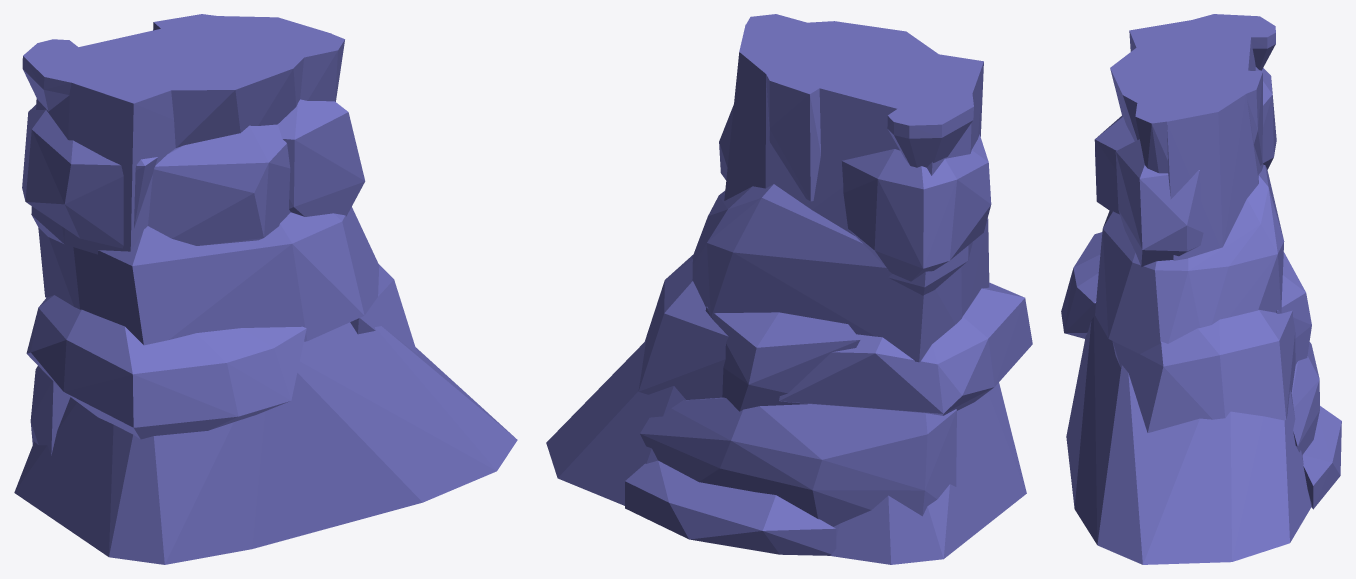
The model's file is Cliff_Plateau_03_Slope_Collider_01.FBX.
3 views of the same model, side by side, from view 1: azimuth 30°, elevation 25°; view 2: azimuth 150°, elevation 25°; view 3: azimuth 270°, elevation 25° (orthographic). The views are drawn at different scales.
Visible parts, largest first — view 1: COLLIDER2, COLLIDER11, COLLIDER1, COLLIDER3, COLLIDER9, COLLIDER4, COLLIDER5, COLLIDER10, COLLIDER6, COLLIDER8, COLLIDER15, COLLIDER14; view 2: COLLIDER14, COLLIDER3, COLLIDER11, COLLIDER2, COLLIDER1, COLLIDER4, COLLIDER12, COLLIDER13, COLLIDER15, COLLIDER7, COLLIDER8, COLLIDER5 (+1 smaller); view 3: COLLIDER2, COLLIDER3, COLLIDER11, COLLIDER15, COLLIDER10, COLLIDER1, COLLIDER12, COLLIDER5, COLLIDER14, COLLIDER9, COLLIDER6, COLLIDER13 (+3 smaller).
Part boxes in pixels (<box>): COLLIDER2: <box>14,322,517,564</box>; COLLIDER11: <box>38,207,379,345</box>; COLLIDER1: <box>26,295,306,439</box>; COLLIDER3: <box>31,16,331,254</box>; COLLIDER9: <box>148,124,290,245</box>; COLLIDER4: <box>22,104,157,248</box>; COLLIDER5: <box>169,48,304,147</box>; COLLIDER10: <box>278,99,365,216</box>; COLLIDER6: <box>287,33,344,101</box>; COLLIDER8: <box>22,39,77,111</box>; COLLIDER15: <box>350,264,417,353</box>; COLLIDER14: <box>30,366,70,455</box>; COLLIDER14: <box>640,397,956,526</box>; COLLIDER3: <box>724,24,983,295</box>; COLLIDER11: <box>692,184,989,362</box>; COLLIDER2: <box>546,341,1026,564</box>; COLLIDER1: <box>779,282,1032,415</box>; COLLIDER4: <box>842,134,991,281</box>; COLLIDER12: <box>625,460,836,555</box>; COLLIDER13: <box>705,307,860,411</box>; COLLIDER15: <box>638,255,728,399</box>; COLLIDER7: <box>766,73,820,201</box>; COLLIDER8: <box>887,94,973,167</box>; COLLIDER5: <box>797,21,939,55</box>; COLLIDER2: <box>1066,316,1311,564</box>; COLLIDER3: <box>1129,19,1263,260</box>; COLLIDER11: <box>1095,165,1284,353</box>; COLLIDER15: <box>1112,310,1295,432</box>; COLLIDER10: <box>1115,139,1203,266</box>; COLLIDER1: <box>1061,232,1102,338</box>; COLLIDER12: <box>1302,406,1341,509</box>; COLLIDER5: <box>1110,47,1160,141</box>; COLLIDER14: <box>1291,342,1319,454</box>; COLLIDER9: <box>1094,116,1134,214</box>; COLLIDER6: <box>1135,100,1168,173</box>; COLLIDER13: <box>1276,252,1311,364</box>.
Size of the model in its own units: 690 by 668 by 456.
